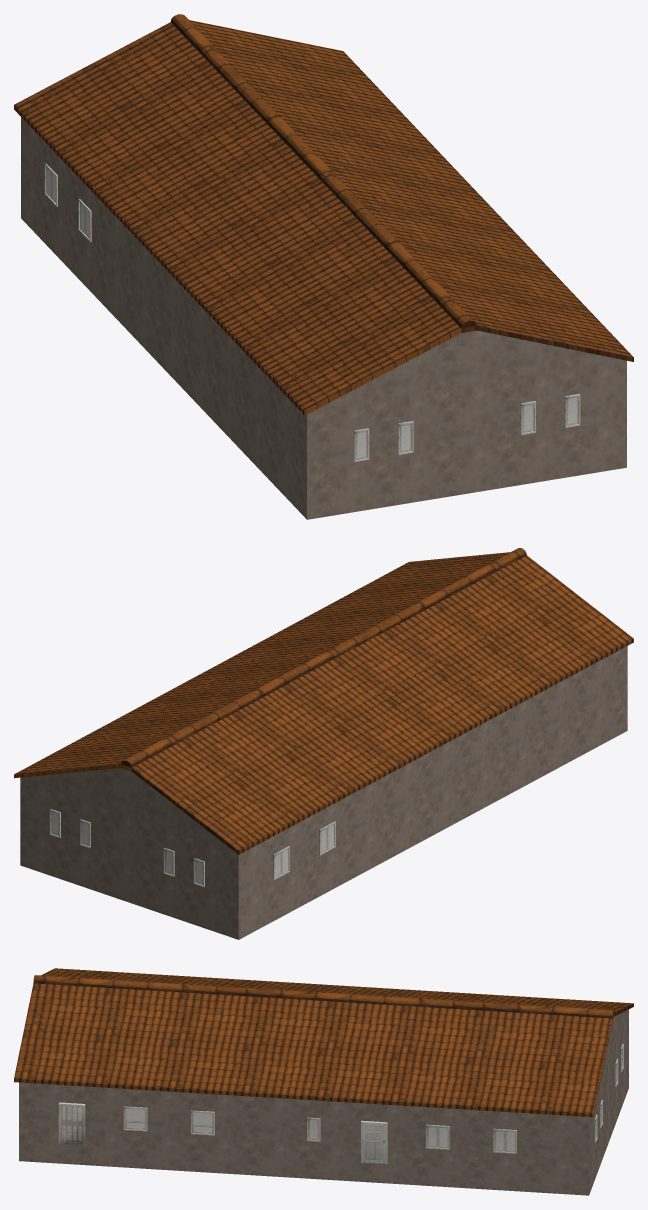
The model's file is Casa_25.fbx.
3 renders of one model, top to bottom at view 1: azimuth 30°, elevation 25°; view 2: azimuth 150°, elevation 25°; view 3: azimuth 270°, elevation 25°, orthographic. The views are drawn at different scales.
Visible parts, largest first — view 1: Casa_25; view 2: Casa_25; view 3: Casa_25.
Boxes of the visible parts, bbox=[...] form: Casa_25: bbox=[14, 14, 633, 519]; Casa_25: bbox=[14, 548, 633, 939]; Casa_25: bbox=[14, 968, 633, 1195].
Size of the model in its own units: 15.29 by 6.45 by 27.55.
